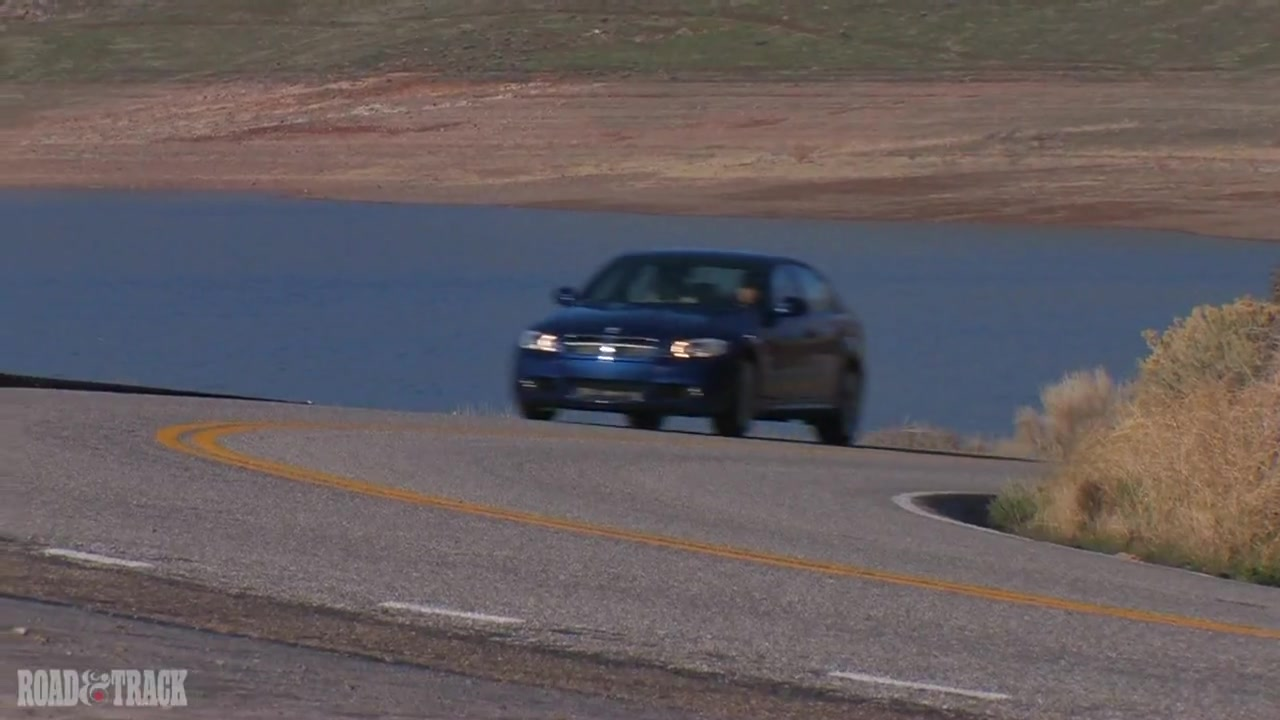car: (507, 244, 867, 448)
